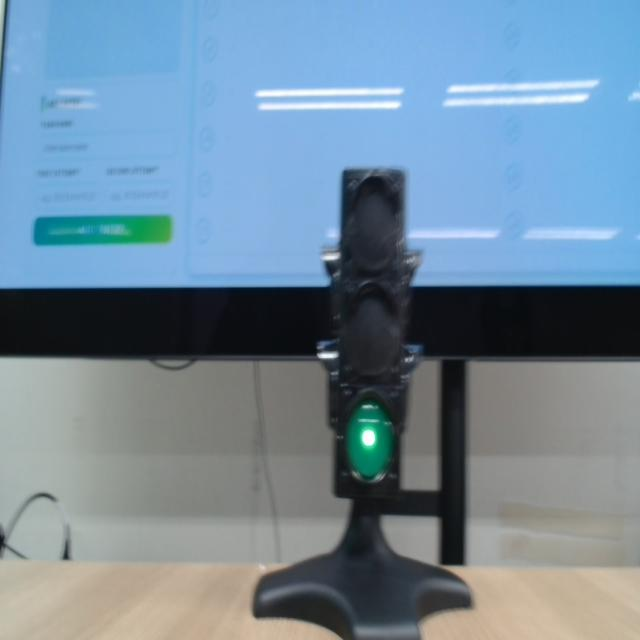green_light: (345, 400, 393, 481)
